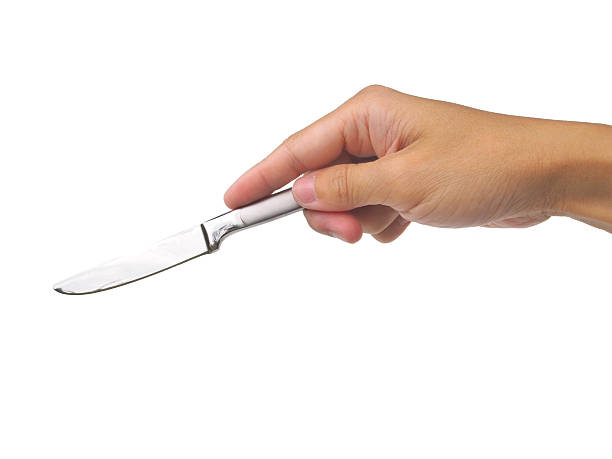knife: (51, 188, 302, 295)
